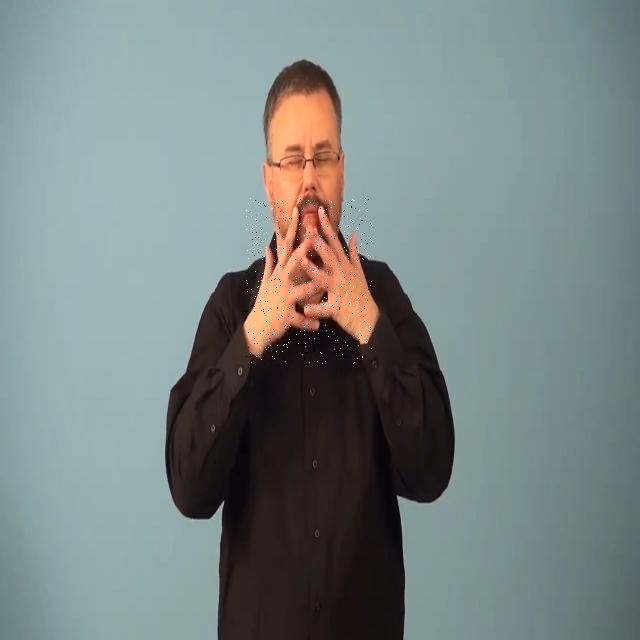juicy: (246, 198, 372, 364)
